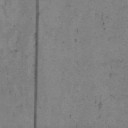surface scratch: (34, 0, 40, 128)
